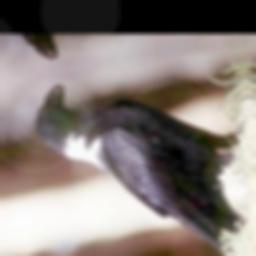Crow: (22, 46, 256, 256)
